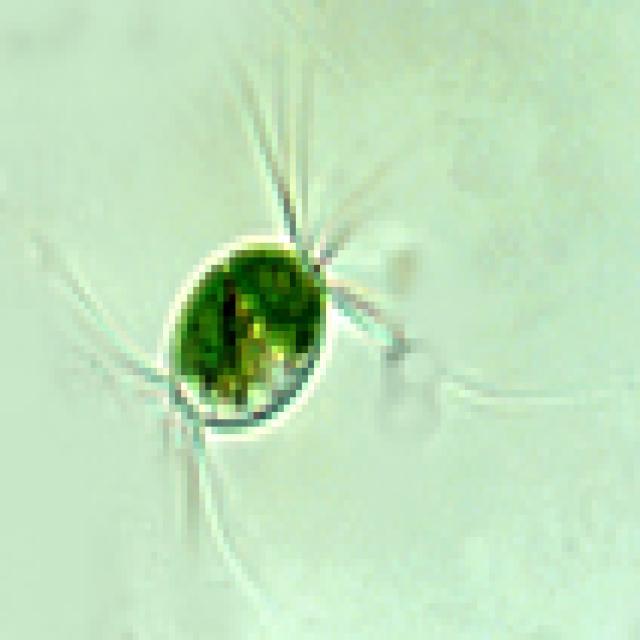Green Algae: (54, 44, 471, 603)
